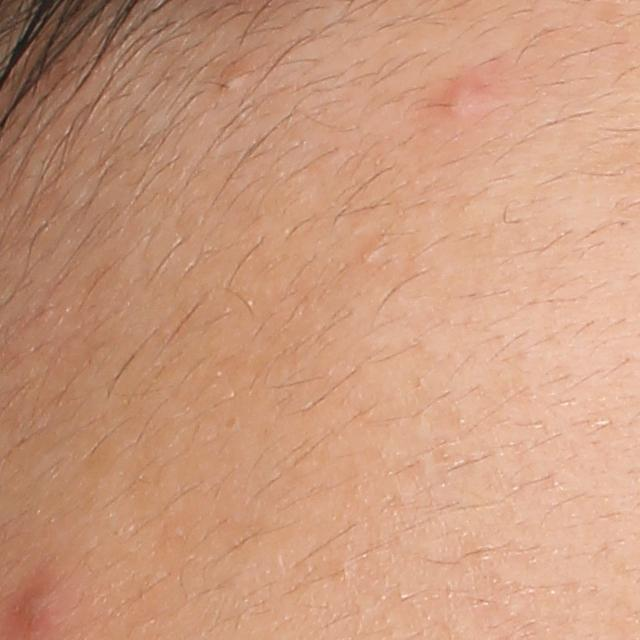papule: (423, 66, 494, 130)
